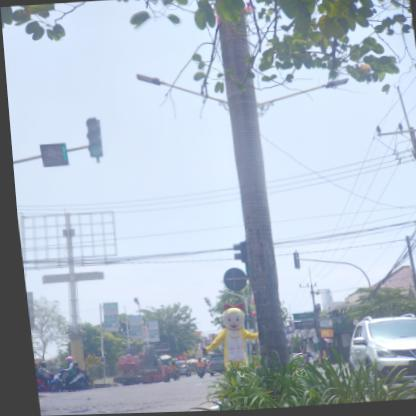green: (82, 118, 101, 160)
